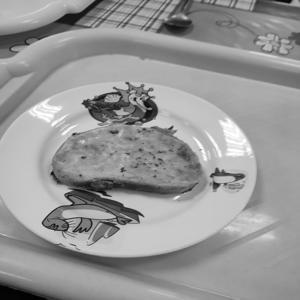cheese_sandwich: (55, 108, 225, 215)
